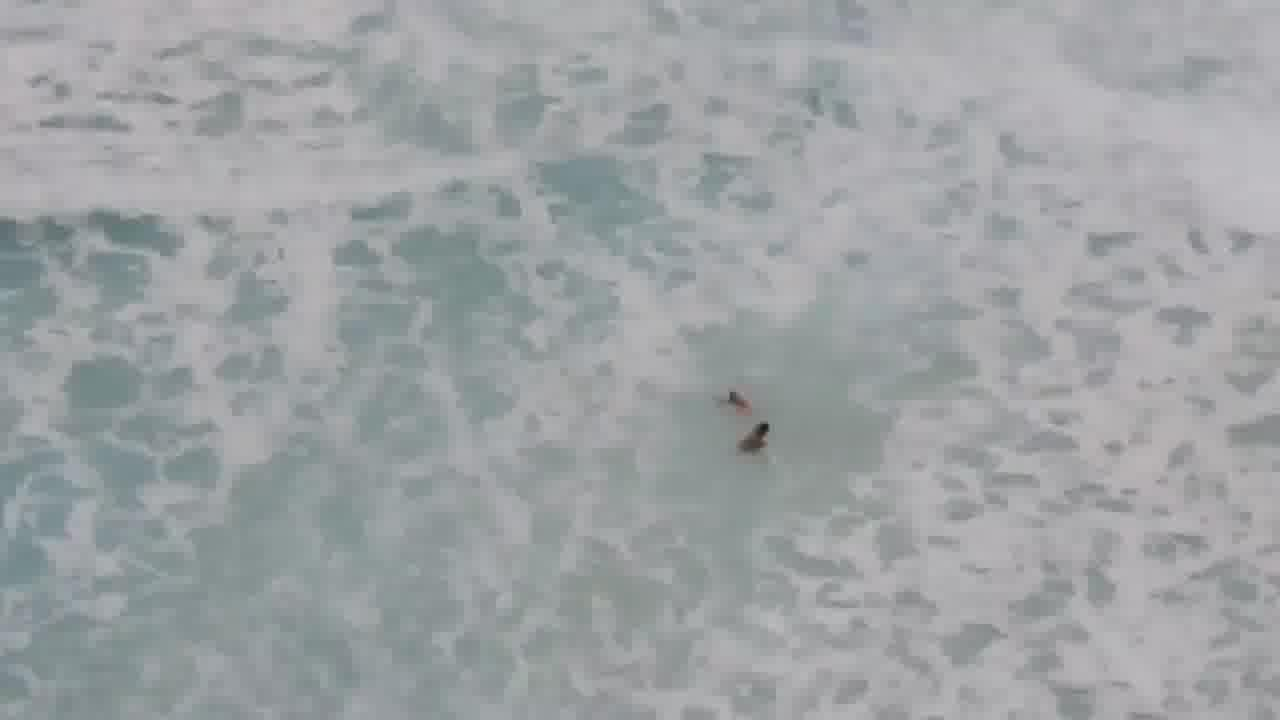human: (732, 426, 784, 450), (712, 379, 746, 413)
